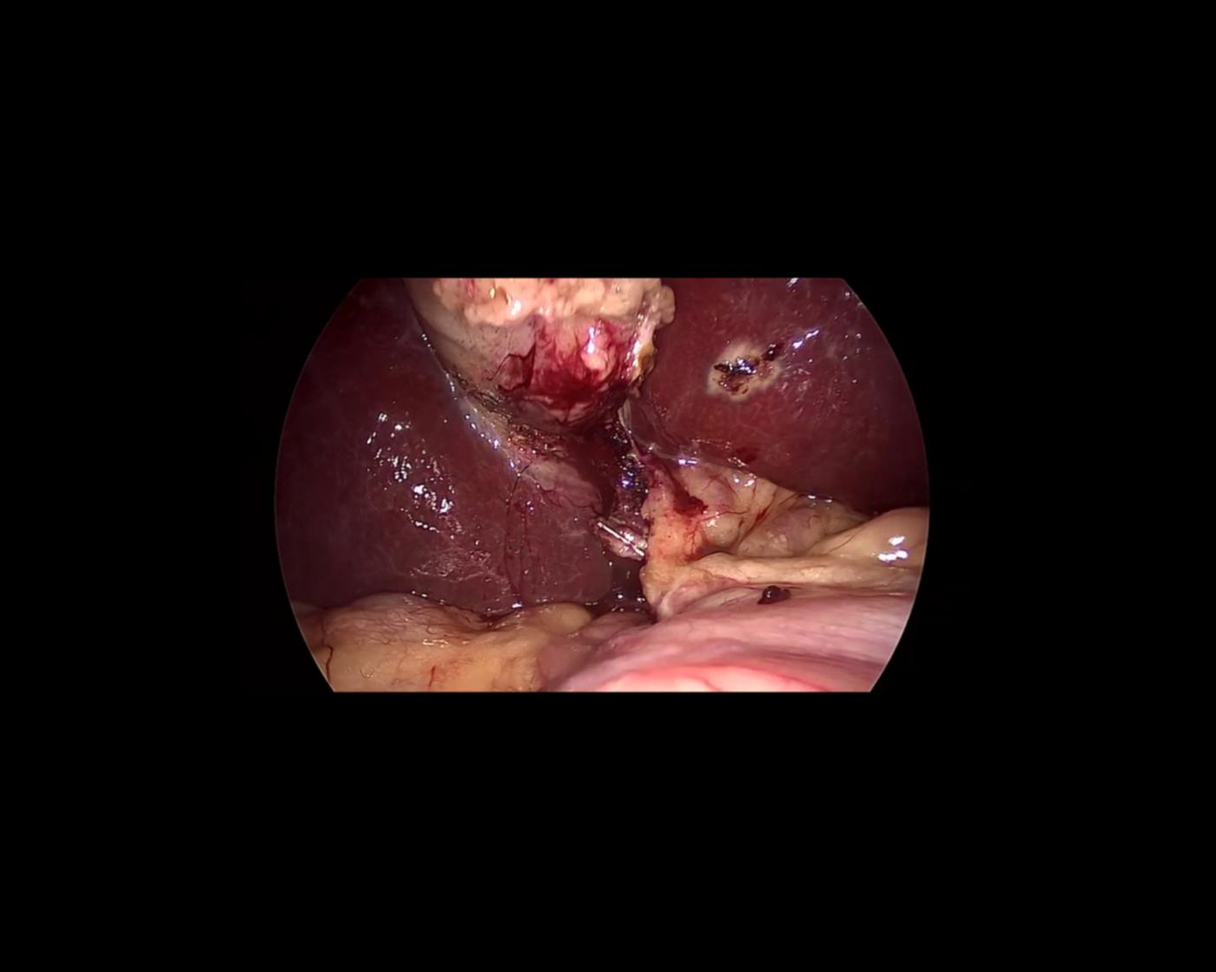Gallbladder: (401, 279, 672, 432)
Liver: (278, 279, 648, 613), (636, 280, 925, 510)
